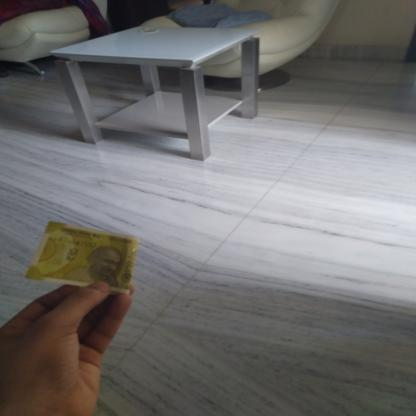New20Front: (26, 222, 136, 288)
